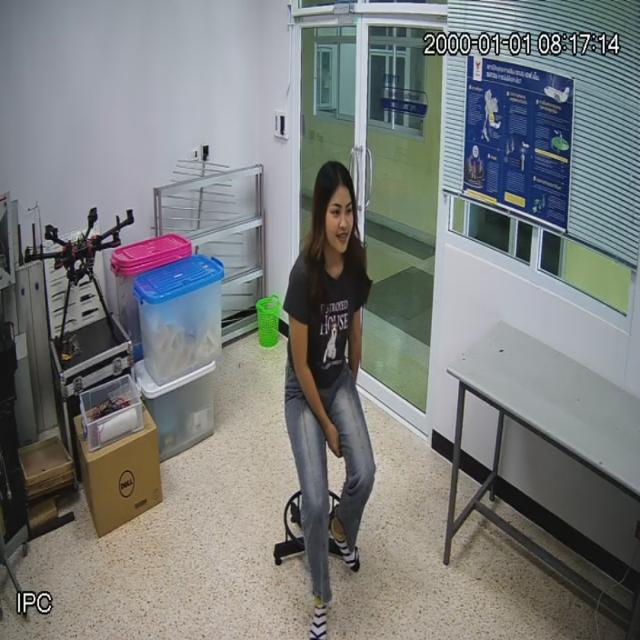normal: (286, 158, 374, 622)
